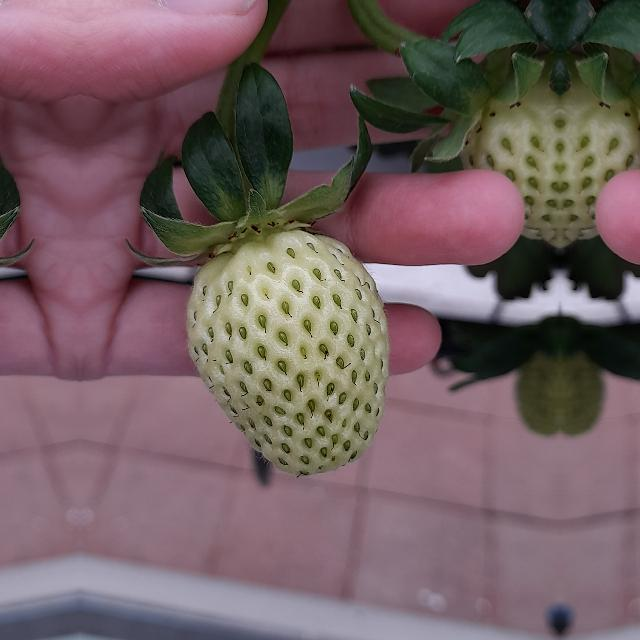Health_25: (185, 222, 388, 474), (454, 71, 560, 251), (560, 71, 640, 251)
